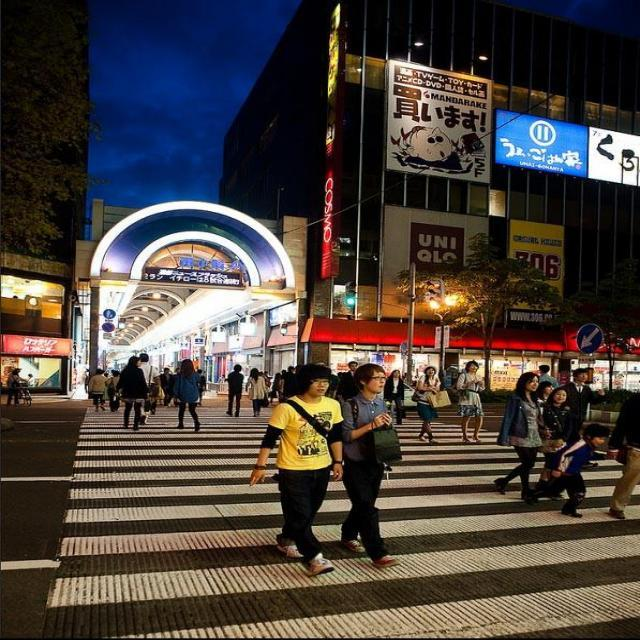person: (249, 362, 346, 578)
